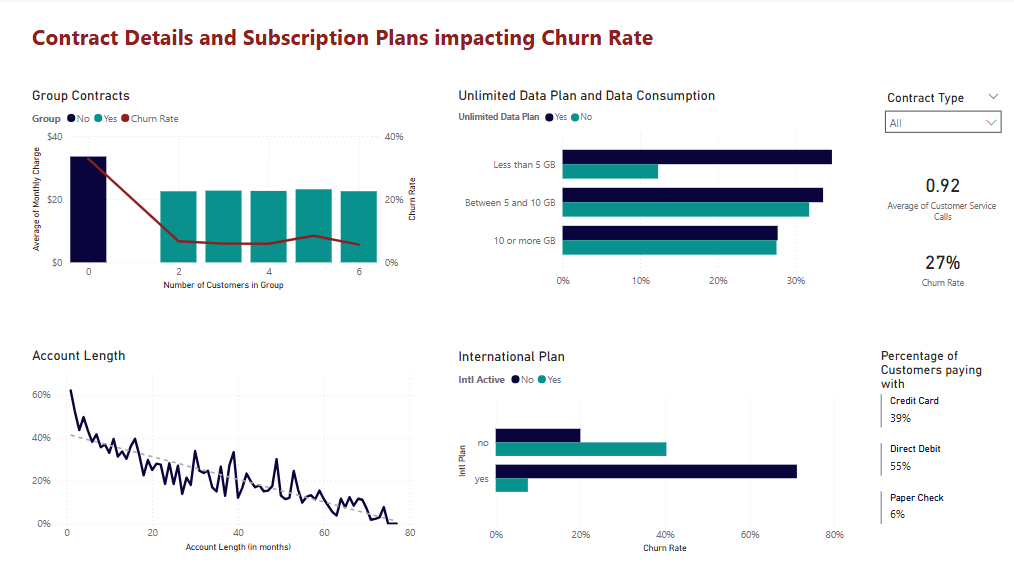

Layout of this report page (visuals, bound fields, positions):
{"tool":"powerbi","page":{"name":"Contract Types and Subscription Plans","canvas":[1280,720],"ordinal":2},"visuals":[{"type":"clusteredBarChart","title":"Unlimited Data Plan and Data Consumption","fields":{"Y":["Databel - Data.Churn Rate"],"Category":["Databel - Data.Grouped Consumption"],"Series":["Databel - Data.Unlimited Data Plan"]},"box":[574,111.7,490,258.2],"z":0},{"type":"lineStackedColumnComboChart","title":" Group Contracts ","fields":{"Category":["Databel - Data.Number of Customers in Group"],"Y":["Avg(Databel - Data.Monthly Charge)"],"Series":["Databel - Data.Group"],"Y2":["Databel - Data.Churn Rate"]},"box":[43.6,112,490,258.2],"z":1000},{"type":"lineChart","title":"Account Length","fields":{"Y":["Databel - Data.Churn Rate"],"Category":["Databel - Data.Account Length (in months)"]},"box":[43.6,435.6,490,259.8],"z":2000},{"type":"multiRowCard","title":"Percentage of Customers paying with","fields":{"Values":["Databel - Data.Payment Method","Divide(Databel - Data.Number of Customers, ScopedEval(Databel - Data.Number of Customers, []))"]},"box":[1099.9,436.8,164.9,259.8],"z":3000},{"type":"clusteredBarChart","title":"International Plan","fields":{"Category":["Databel - Data.Intl Plan"],"Y":["Databel - Data.Churn Rate"],"Series":["Databel - Data.Intl Active"]},"box":[574,437.1,490,259.8],"z":4000},{"type":"card","fields":{"Values":["Avg(Databel - Data.Customer Service Calls)"]},"box":[1099.9,182,164.9,116.7],"z":5000},{"type":"slicer","fields":{"Values":["Databel - Data.Contract Type"]},"box":[1099.9,111.7,164.9,73.1],"z":6000},{"type":"card","fields":{"Values":["Databel - Data.Churn Rate"]},"box":[1121.6,301.5,121.3,68.4],"z":7000},{"type":"textbox","box":[43.6,26.4,953.6,59.1],"z":8000}]}

Visuals, with their boxes in screenshot pixels (x1, y1, x2, y2), scaled from the page's 1280x720 canvas onto the 1014x567 screenshot:
"Unlimited Data Plan and Data Consumption" clusteredBarChart: (455, 88, 843, 291)
" Group Contracts " lineStackedColumnComboChart: (35, 88, 423, 292)
"Account Length" lineChart: (35, 343, 423, 548)
"Percentage of Customers paying with" multiRowCard: (871, 344, 1002, 549)
"International Plan" clusteredBarChart: (455, 344, 843, 549)
card - Avg(Databel - Data.Customer Service Calls): (871, 143, 1002, 235)
slicer - Databel - Data.Contract Type: (871, 88, 1002, 146)
card - Databel - Data.Churn Rate: (889, 237, 985, 291)
textbox: (35, 21, 790, 67)
